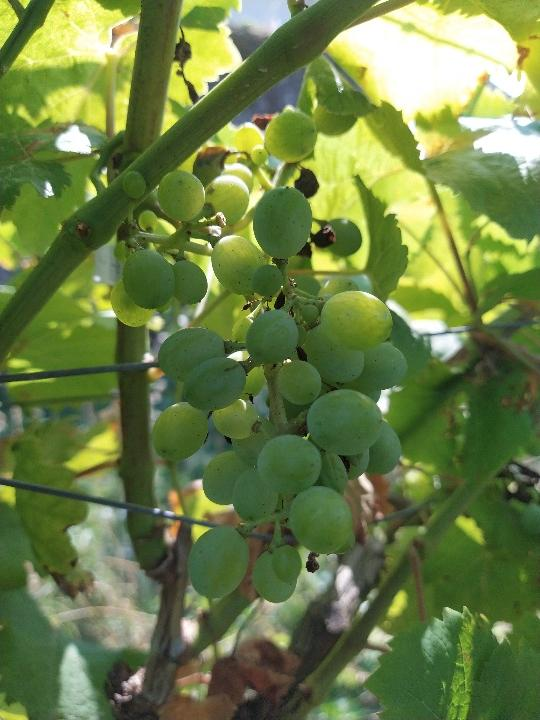grape: (110, 99, 408, 604)
